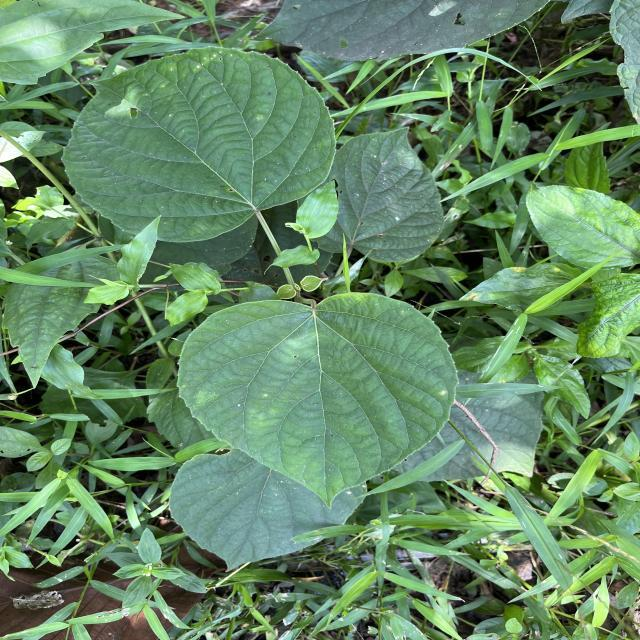Clerodendrum infortunatum: (176, 290, 460, 512), (61, 46, 338, 244), (169, 450, 374, 576), (294, 124, 448, 264)
